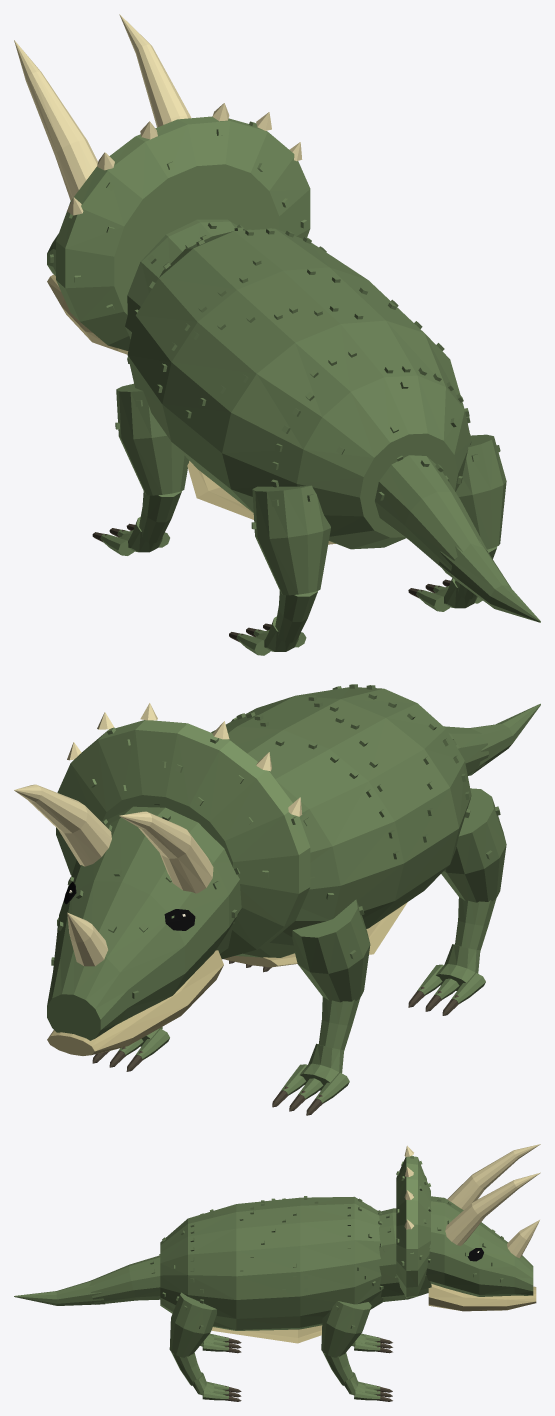
Rendered from Triceratops-Import3D-Motor6D.fbx.
The picture shows the model from 3 angles, top to bottom: view 1: azimuth 30°, elevation 25°; view 2: azimuth 150°, elevation 25°; view 3: azimuth 270°, elevation 25°; orthographic projection. The views are drawn at different scales.
Parts seen in each view (by area): view 1: Import3D_Core, Import3D_Head, Import3D_Tail, Import3D_LegBL, Import3D_LegFL, Import3D_LegBR, Import3D_Neck, Import3D_Tail1, Import3D_KneeBL, Import3D_KneeFL, Import3D_FootFL, Import3D_FootBL (+1 smaller); view 2: Import3D_Head, Import3D_Core, Import3D_LegFL, Import3D_LegBL, Import3D_Jaw, Import3D_FootBL, Import3D_FootFL, Import3D_KneeBL, Import3D_KneeFL, Import3D_Tail1, Import3D_FootFR, Import3D_Tail; view 3: Import3D_Core, Import3D_Head, Import3D_Tail, Import3D_LegBR, Import3D_LegFR, Import3D_Neck, Import3D_Jaw, Import3D_Tail1, Import3D_FootBR, Import3D_FootFR, Import3D_FootBL, Import3D_FootFL (+2 smaller).
Part boxes in pixels (x1,y1,x2,y2): Import3D_Core: [127, 227, 471, 549]; Import3D_Head: [14, 14, 310, 350]; Import3D_Tail: [375, 455, 487, 577]; Import3D_LegBL: [251, 485, 330, 595]; Import3D_LegFL: [115, 383, 189, 495]; Import3D_LegBR: [455, 434, 506, 549]; Import3D_Neck: [125, 219, 245, 339]; Import3D_Tail1: [439, 541, 540, 622]; Import3D_KneeBL: [275, 591, 317, 642]; Import3D_KneeFL: [139, 491, 181, 542]; Import3D_FootFL: [92, 517, 169, 555]; Import3D_FootBL: [229, 616, 306, 655]; Import3D_Head: [14, 703, 310, 1040]; Import3D_Core: [211, 684, 471, 967]; Import3D_LegFL: [292, 899, 370, 1002]; Import3D_LegBL: [441, 788, 506, 902]; Import3D_Jaw: [47, 950, 223, 1055]; Import3D_FootBL: [408, 944, 485, 1015]; Import3D_FootFL: [272, 1043, 349, 1115]; Import3D_KneeBL: [455, 897, 496, 950]; Import3D_KneeFL: [319, 997, 359, 1050]; Import3D_Tail1: [468, 703, 540, 775]; Import3D_FootFR: [92, 1026, 169, 1071]; Import3D_Tail: [444, 726, 488, 775]; Import3D_Core: [160, 1196, 383, 1343]; Import3D_Head: [396, 1144, 540, 1297]; Import3D_Tail: [89, 1254, 160, 1303]; Import3D_LegBR: [169, 1292, 216, 1357]; Import3D_LegFR: [321, 1301, 371, 1357]; Import3D_Neck: [377, 1208, 431, 1301]; Import3D_Jaw: [428, 1284, 536, 1311]; Import3D_Tail1: [14, 1281, 104, 1305]; Import3D_FootBR: [193, 1372, 241, 1401]; Import3D_FootFR: [344, 1372, 392, 1401]; Import3D_FootBL: [200, 1333, 241, 1353]; Import3D_FootFL: [351, 1333, 392, 1353].
Size of the model in its own units: 207 by 310 by 685.
Materials: 1 (1 with a texture image).
